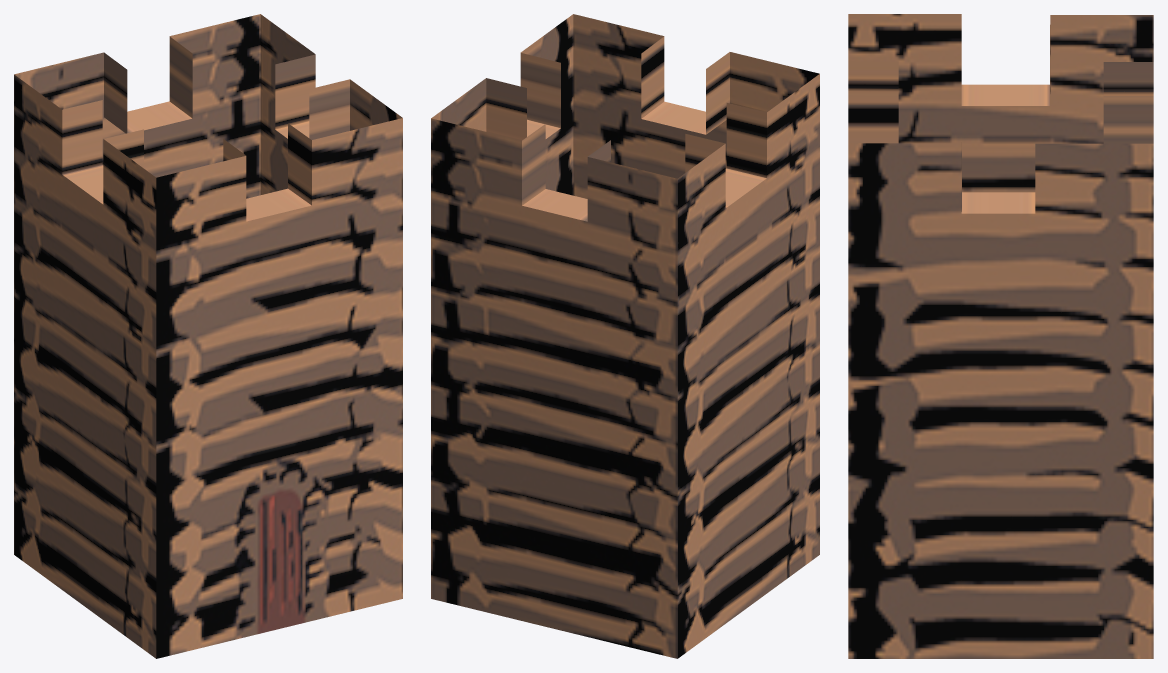
The model's file is Ciało_3.fbx.
3 views of the same model, side by side, from view 1: azimuth 30°, elevation 25°; view 2: azimuth 150°, elevation 25°; view 3: azimuth 270°, elevation 25° (orthographic). The views are drawn at different scales.
Visible parts, largest first — view 1: Ciało_3; view 2: Ciało_3; view 3: Ciało_3.
Part boxes in pixels (x1,y1,x2,y2): Ciało_3: (14,14,402,658); Ciało_3: (431,14,819,658); Ciało_3: (848,14,1153,658).
Size of the model in its own units: 13299 by 24806 by 13299.
